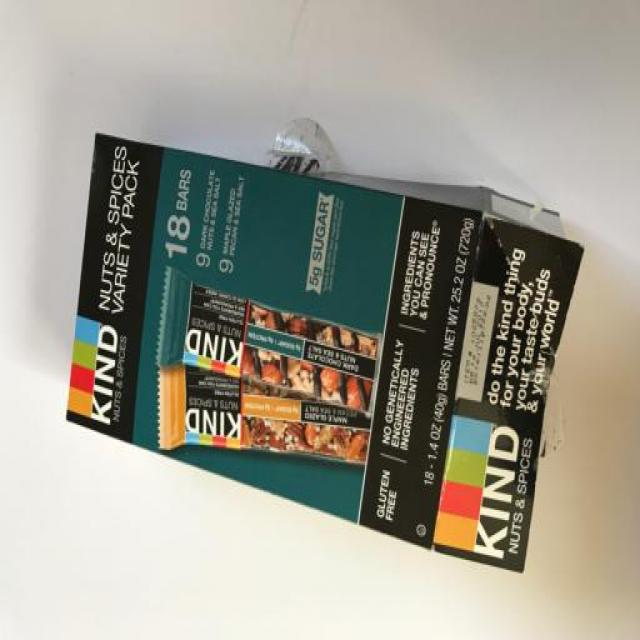paper: (76, 90, 581, 574)
